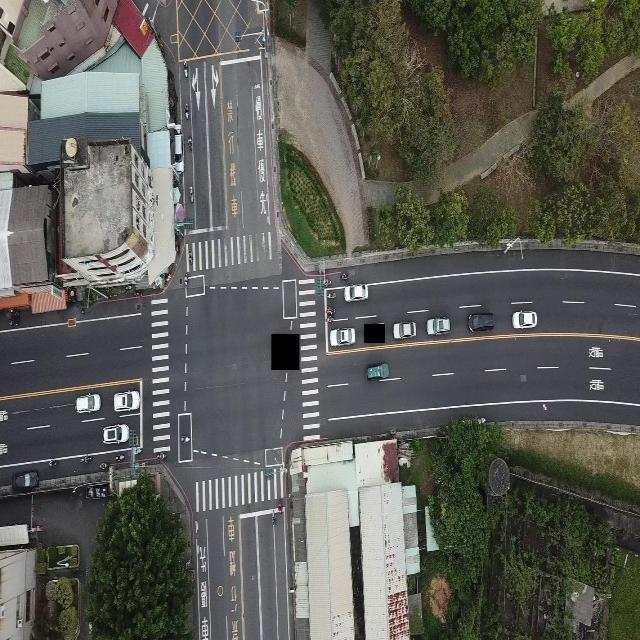bike: (153, 448, 168, 466), (182, 99, 190, 122), (182, 271, 190, 292), (80, 454, 94, 466), (181, 60, 190, 78), (189, 183, 196, 206), (179, 434, 192, 446), (97, 459, 111, 470), (186, 135, 194, 154), (270, 507, 276, 530), (188, 250, 195, 268), (46, 459, 61, 467), (113, 454, 126, 463), (323, 316, 337, 324), (278, 499, 284, 517), (326, 290, 336, 300), (340, 271, 350, 281), (326, 306, 337, 314), (324, 279, 332, 289)
car: (388, 318, 422, 345), (112, 389, 141, 417), (467, 310, 496, 337), (326, 326, 356, 351), (101, 423, 132, 447), (74, 390, 101, 417), (510, 308, 538, 332), (426, 315, 452, 339), (364, 360, 391, 382), (344, 282, 369, 303)
